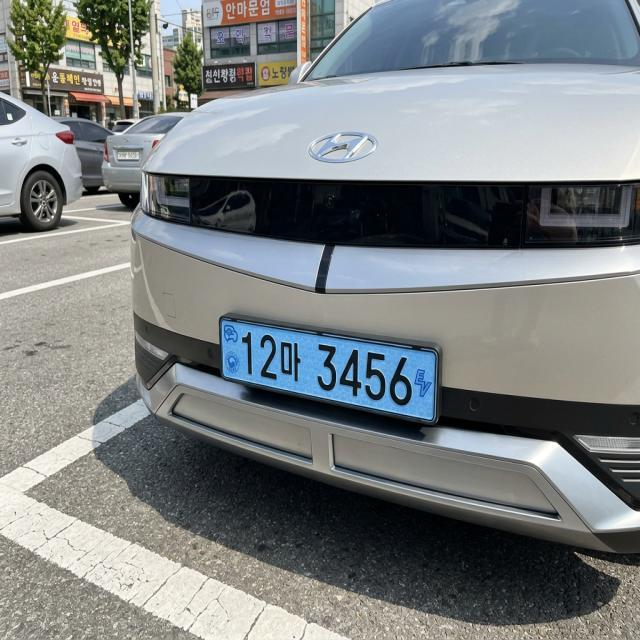car: (203, 313, 471, 429)
carev: (414, 346, 438, 424), (219, 318, 239, 383)
